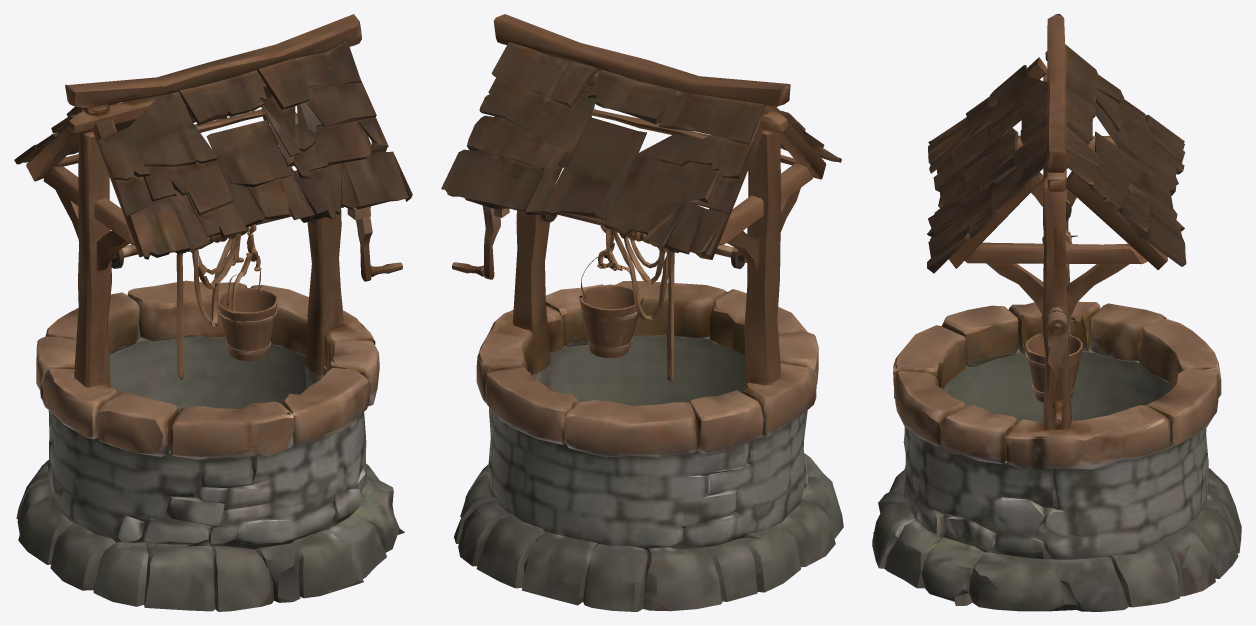
Rendered from WellOld.glb.
The picture shows the model from 3 angles, left to right: view 1: azimuth 30°, elevation 25°; view 2: azimuth 150°, elevation 25°; view 3: azimuth 270°, elevation 25°; orthographic projection. The views are drawn at different scales.
Visible parts, largest first — view 1: WellOld; view 2: WellOld; view 3: WellOld.
Boxes of the visible parts, box(x1,y1,x2,y2) form: WellOld: box(14, 14, 412, 611); WellOld: box(441, 14, 843, 611); WellOld: box(872, 14, 1241, 611).
Size of the model in its own units: 2.64 by 3.4 by 2.48.
Materials: 1 (1 with a texture image).
